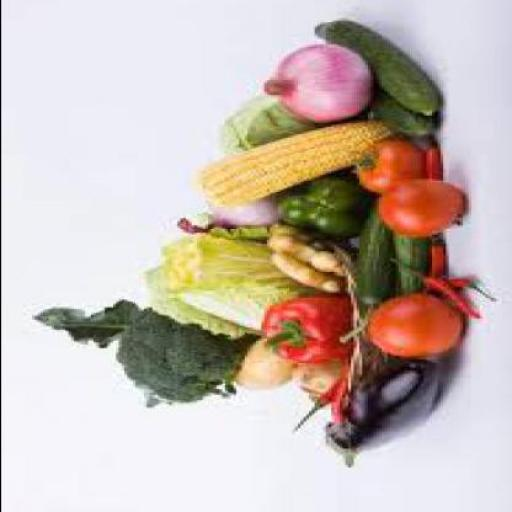biodegradable: (193, 125, 392, 209), (316, 363, 440, 471), (112, 310, 240, 406), (311, 22, 439, 117), (137, 259, 285, 340), (263, 45, 375, 125), (257, 296, 350, 367), (364, 296, 462, 360), (341, 197, 397, 305), (162, 235, 268, 291), (372, 180, 465, 238), (215, 97, 311, 153), (390, 262, 478, 319), (28, 302, 128, 352), (278, 179, 366, 235), (346, 138, 423, 196), (165, 195, 274, 235), (286, 370, 347, 434), (230, 341, 291, 393), (266, 232, 344, 270), (364, 96, 434, 138), (386, 223, 425, 296), (260, 259, 336, 294), (291, 363, 347, 406), (417, 279, 493, 303), (325, 370, 349, 428), (415, 138, 442, 182), (426, 236, 448, 278)
